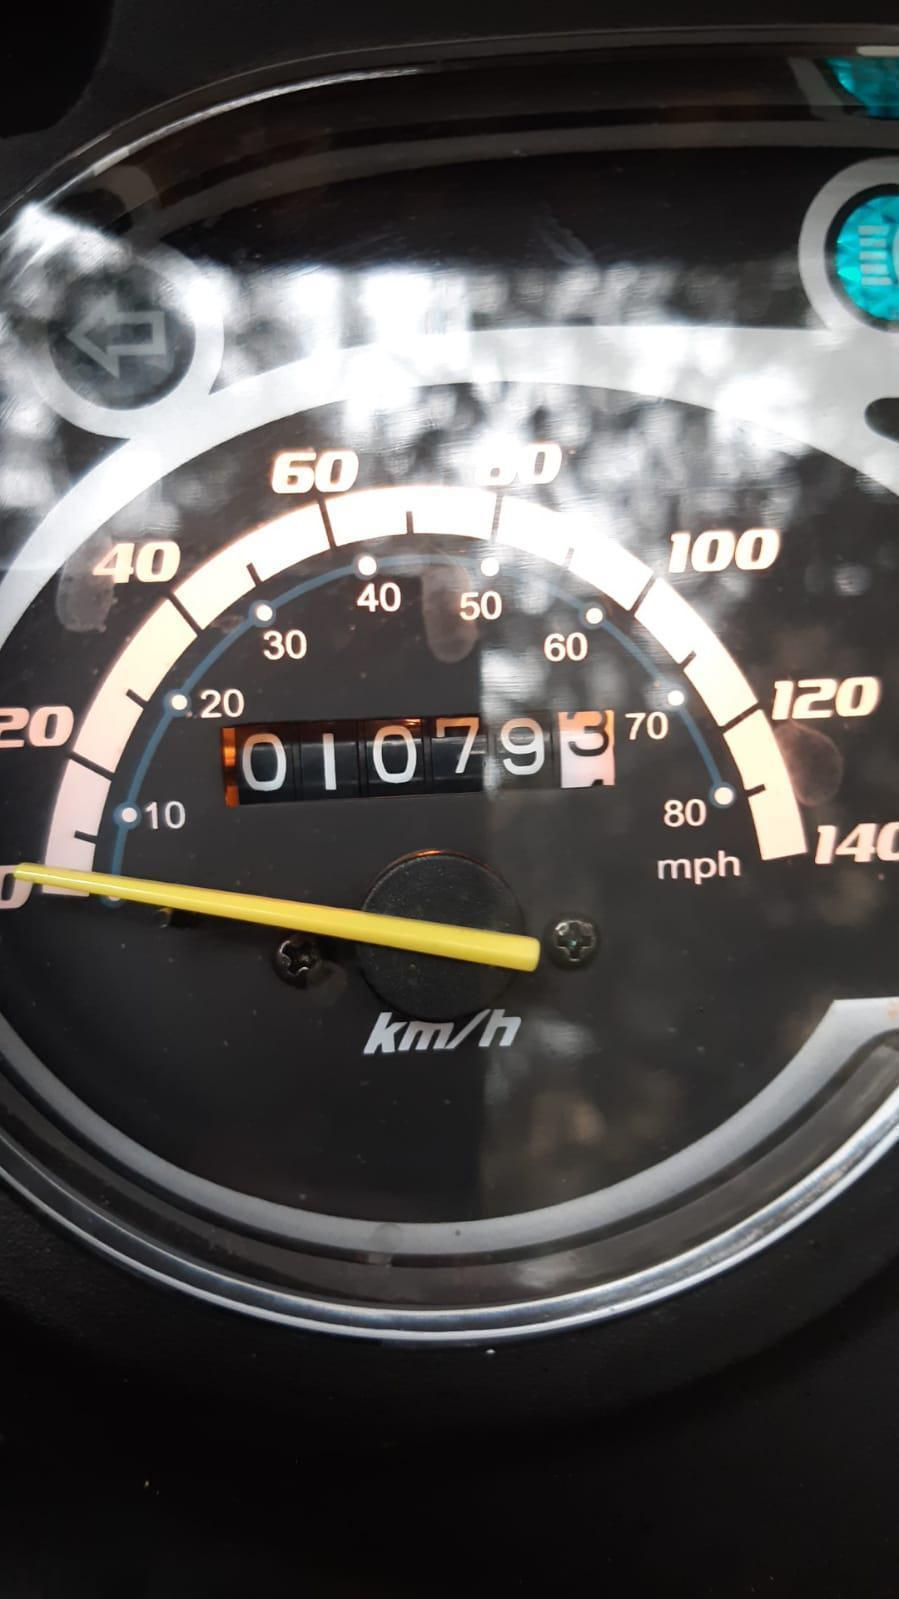0: (237, 729, 289, 795), (369, 722, 419, 789)
1: (312, 724, 345, 796)
3: (563, 707, 613, 758)
7: (431, 711, 482, 778)
9: (495, 713, 548, 778)
odometer: (217, 705, 618, 810)
